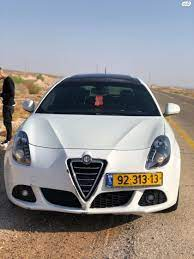licence: (105, 169, 165, 190)
